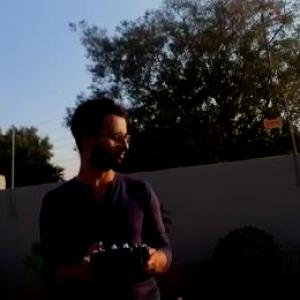follow: (42, 91, 184, 299)
